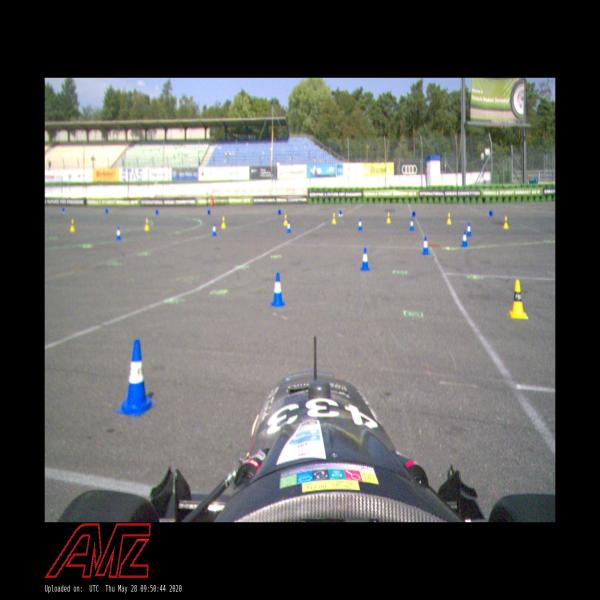blue_cone: (116, 340, 156, 416), (270, 272, 286, 307), (360, 247, 370, 271), (421, 235, 430, 256), (461, 230, 468, 247), (115, 226, 122, 241), (466, 222, 472, 237), (211, 222, 217, 237), (357, 218, 363, 231), (409, 218, 415, 231), (286, 220, 291, 234)
yellow_cone: (509, 278, 528, 319), (502, 215, 510, 229), (69, 219, 76, 232), (446, 212, 452, 225), (144, 218, 150, 231), (221, 216, 226, 229), (386, 212, 391, 224), (283, 214, 288, 226), (332, 213, 336, 224)
